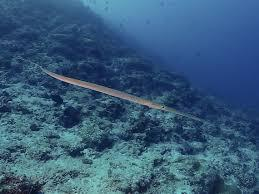Fistularia commersonii: (31, 55, 208, 136)
